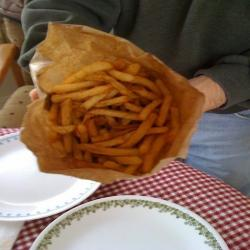fries: (48, 60, 167, 168)
